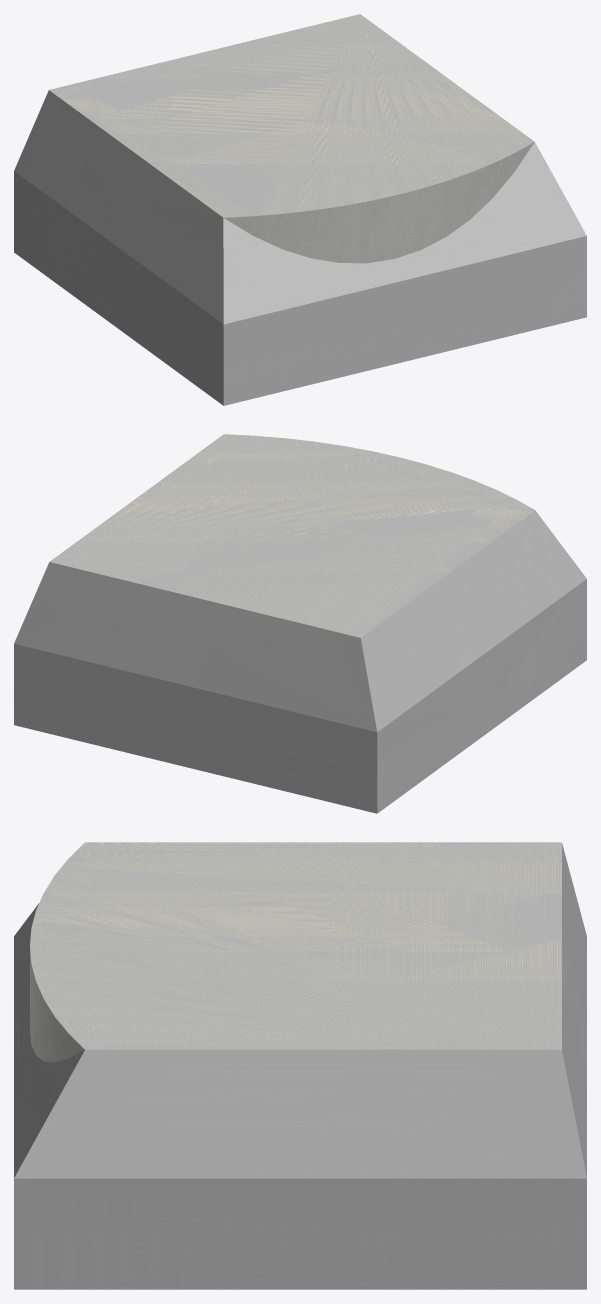
The model's file is original-26.obj.
The picture shows the model from 3 angles, top to bottom: view 1: azimuth 30°, elevation 25°; view 2: azimuth 150°, elevation 25°; view 3: azimuth 270°, elevation 25°; orthographic projection. The views are drawn at different scales.
Parts seen in each view (by area): view 1: mesh10/mesh10-geometry#mesh10-geometry; view 2: mesh10/mesh10-geometry#mesh10-geometry; view 3: mesh10/mesh10-geometry#mesh10-geometry.
Part boxes in pixels (x1,y1,x2,y2): mesh10/mesh10-geometry#mesh10-geometry: (14, 14, 586, 405); mesh10/mesh10-geometry#mesh10-geometry: (14, 434, 586, 813); mesh10/mesh10-geometry#mesh10-geometry: (14, 842, 586, 1289).
Size of the model in its own units: 0.1221 by 0.0523 by 0.1221.
